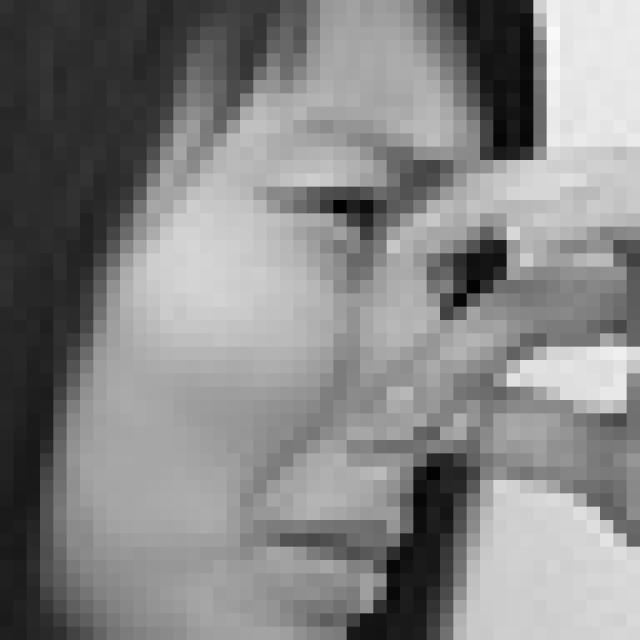disgust: (120, 110, 480, 629)
